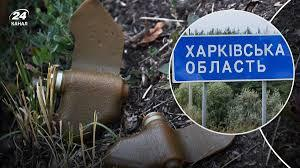PMF 1: (43, 0, 132, 145), (102, 111, 241, 168)
